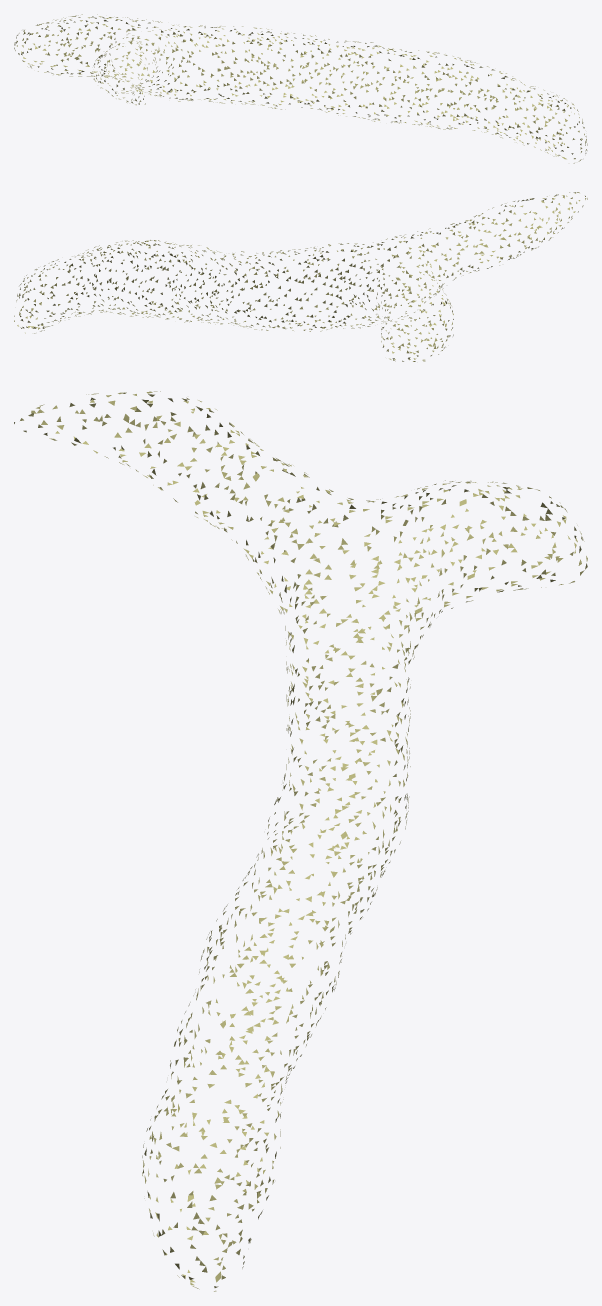
Rendered from morph_009.glb.
The picture shows the model from 3 angles, top to bottom: view 1: azimuth 30°, elevation 25°; view 2: azimuth 150°, elevation 25°; view 3: azimuth 270°, elevation 25°; orthographic projection. The views are drawn at different scales.
Size of the model in its own units: 114 by 50.02 by 58.17.
